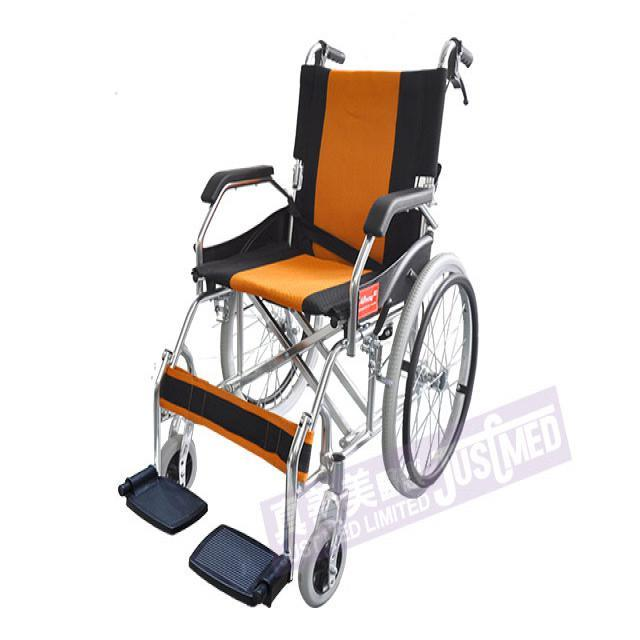wheelchair: (114, 25, 484, 624)
